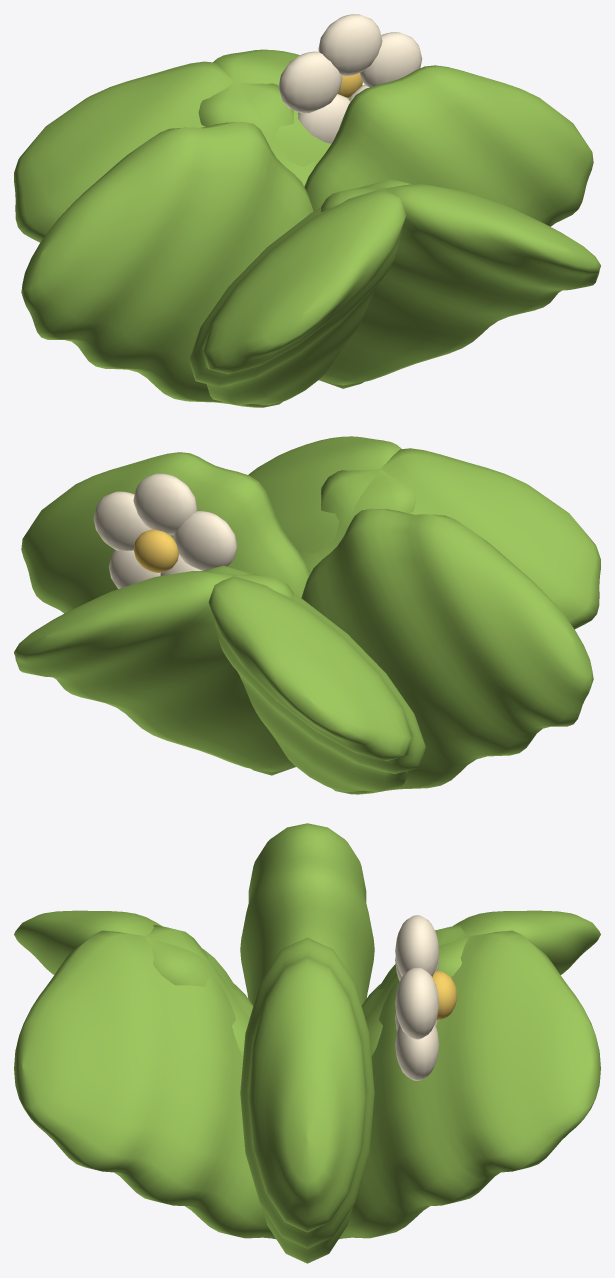
File: crop_6_stage_2.fbx
The picture shows the model from 3 angles, top to bottom: view 1: azimuth 30°, elevation 25°; view 2: azimuth 150°, elevation 25°; view 3: azimuth 270°, elevation 25°; orthographic projection. The views are drawn at different scales.
Visible parts, largest first — view 1: crop_6_stage_2; view 2: crop_6_stage_2; view 3: crop_6_stage_2.
Boxes of the visible parts, x1,y1,x2,y2 form: crop_6_stage_2: [14, 14, 600, 407]; crop_6_stage_2: [14, 436, 600, 794]; crop_6_stage_2: [14, 823, 600, 1263].
Bounding box in the file's own units: 0.42 × 0.2275 × 0.34.
Materials: 1 (1 with a texture image).
